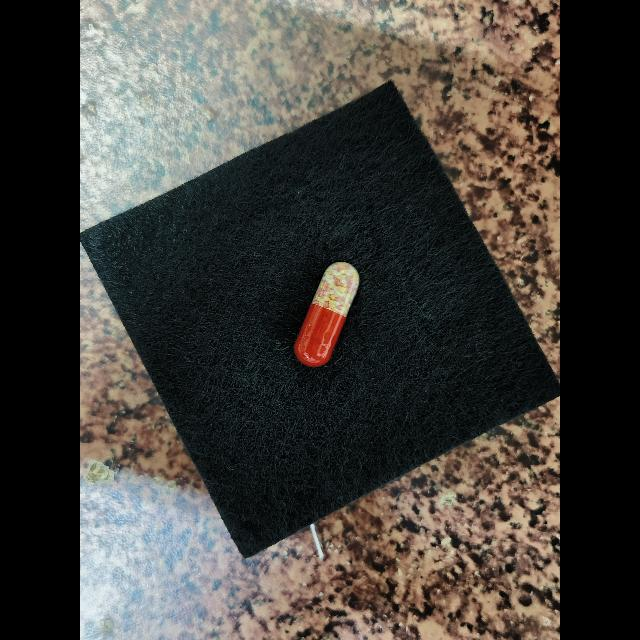Intact Capsule: (294, 262, 359, 367)
